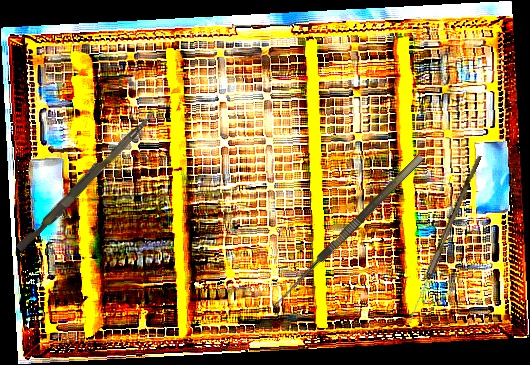Hook Surgical: (269, 153, 433, 318)
Pusher: (15, 105, 157, 256)
Surgical Spoon: (407, 153, 482, 323)
